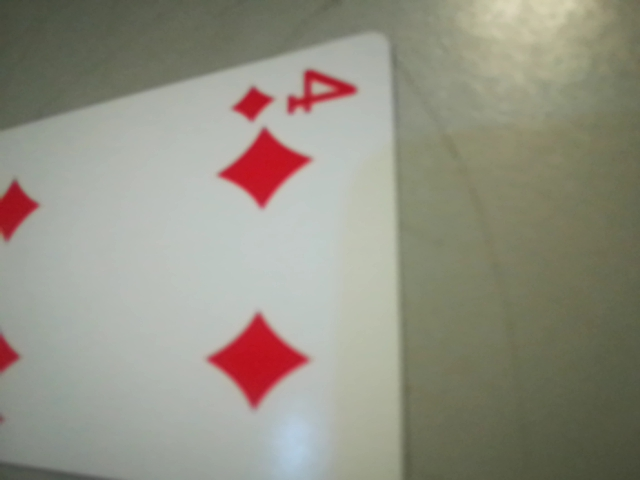fk 4: (213, 64, 375, 128)
